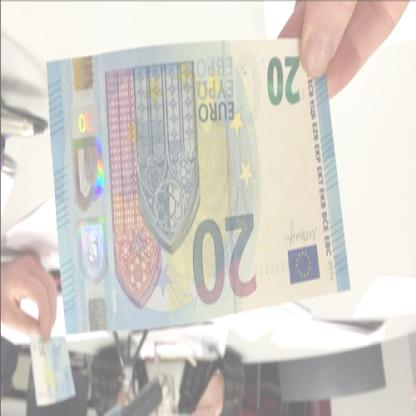euro_banknote: (55, 44, 341, 324)
